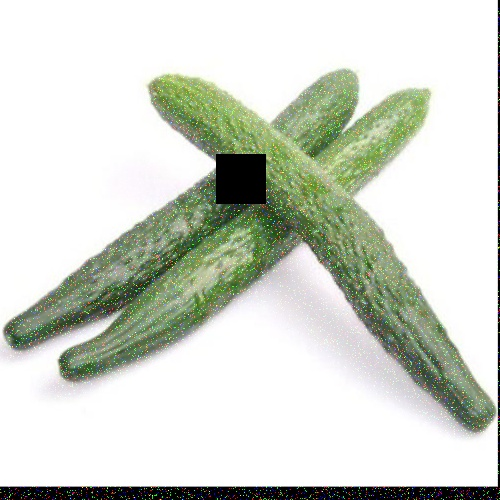cucumber: (152, 72, 490, 422), (68, 86, 430, 383), (5, 70, 353, 335)
